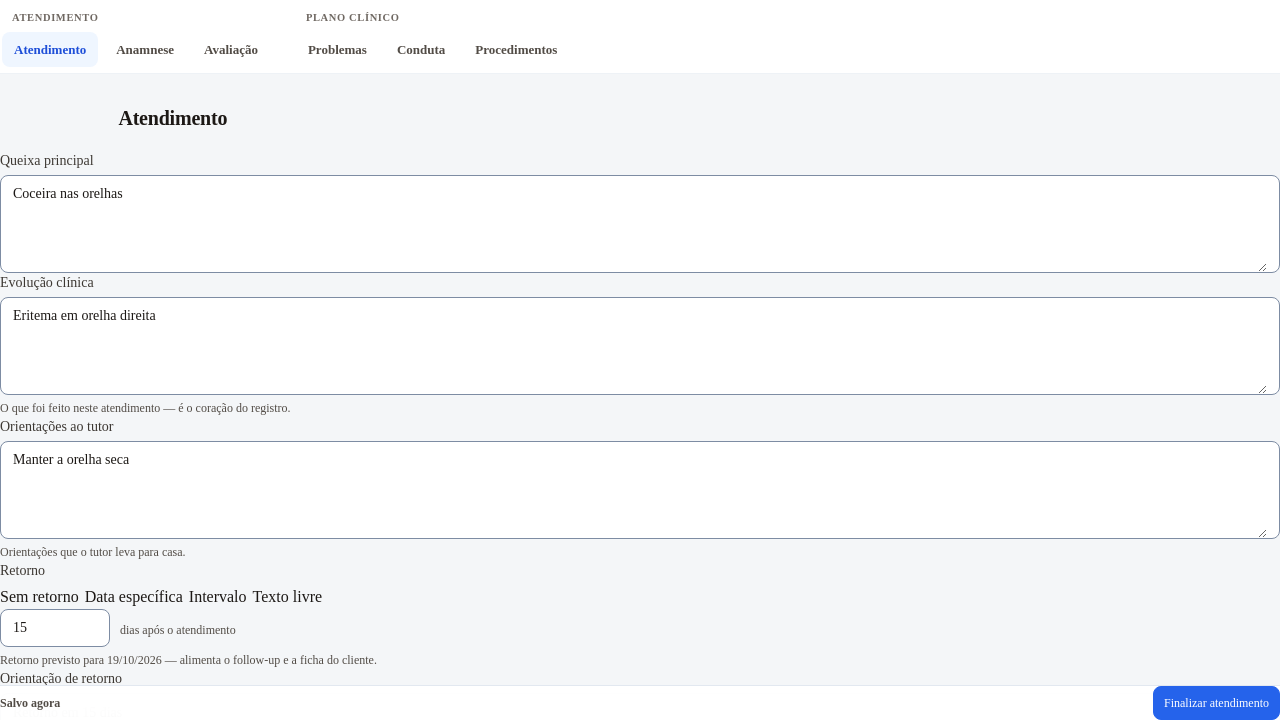
Scenario: F1B2 · navegação por vertical (o pacote B2 não vaza) › trocar para Problemas grava a Anamnese antes (flush entre seções B1 → B2)
# Digita na Anamnese.
Click the button "Anamnese": click(145, 50) x1=104 y1=32 x2=186 y2=67
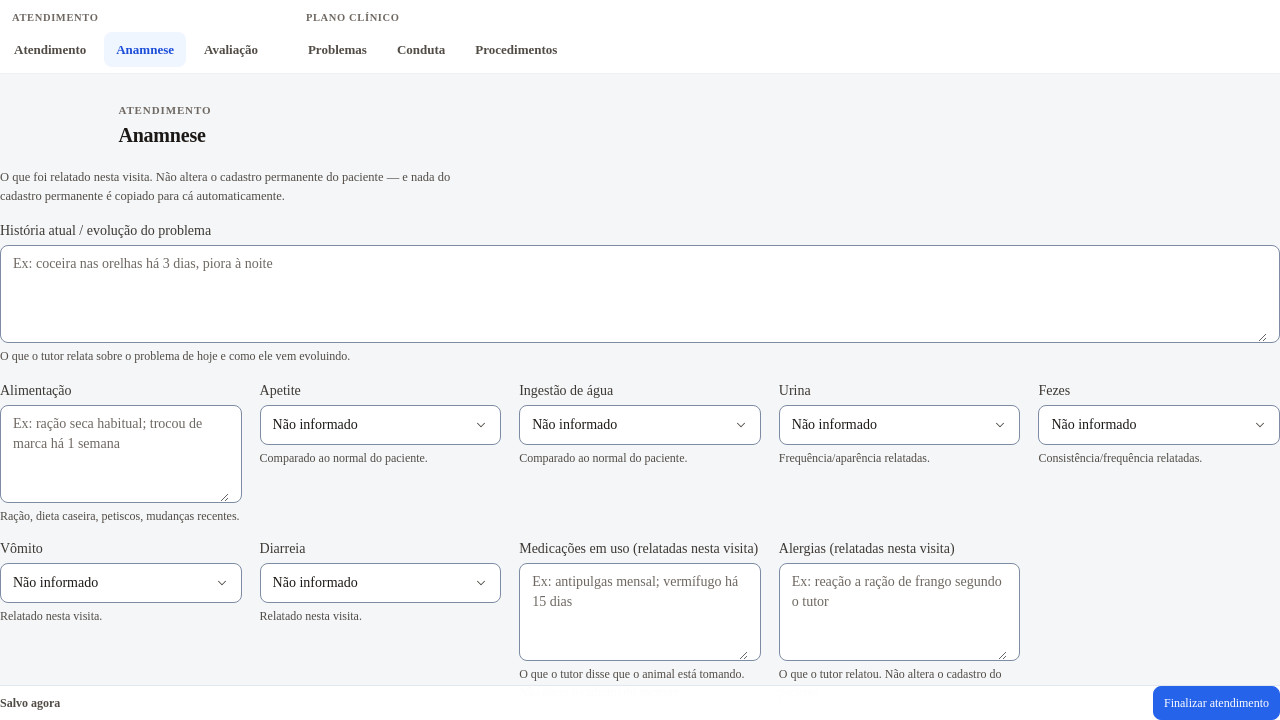
Result: the text box labelled "História atual" is shown
In the text box labelled "História atual": (640, 294) x1=13 y1=246 x2=1267 y2=342, type "Coceira há 3 dias."
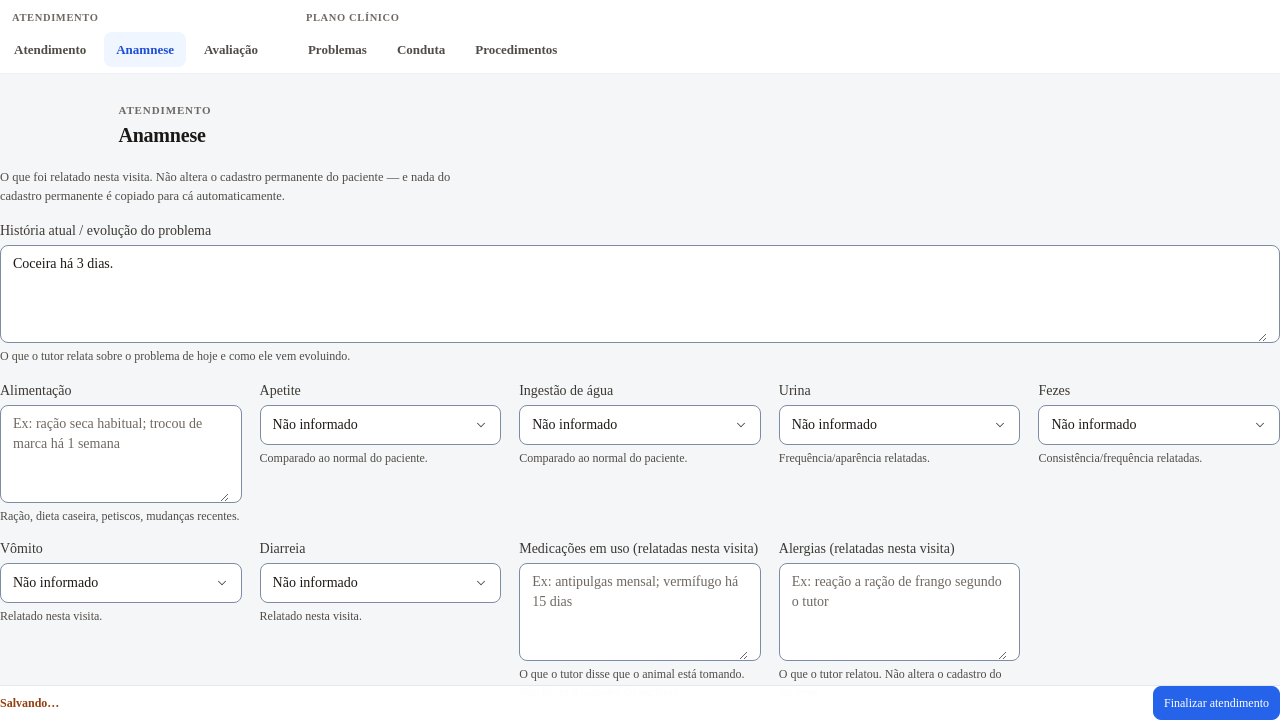
# Troca para Problemas: precisa gravar ANTES de navegar.
Click the button "Problemas": click(337, 50) x1=296 y1=32 x2=379 y2=67
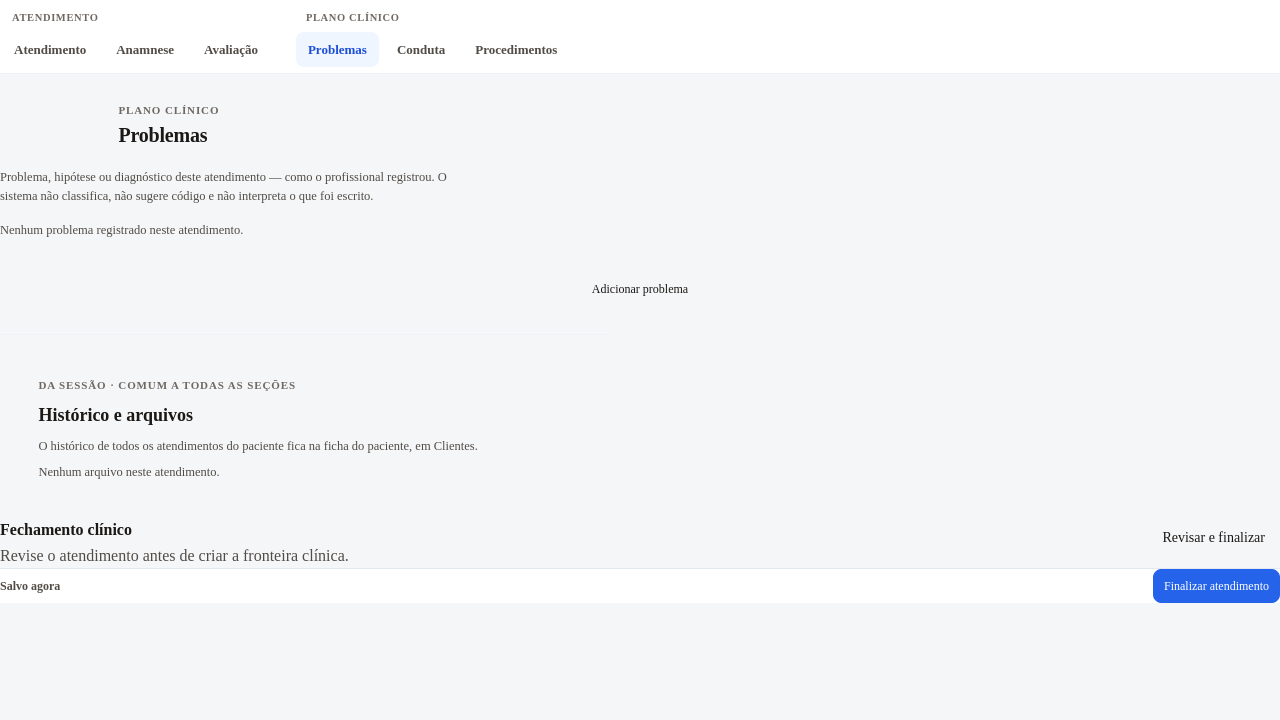
Expected: the element named "Problemas e diagnósticos" is shown, x1=0 y1=148 x2=1279 y2=306
Result: the button "Adicionar problema" is shown at x1=0 y1=272 x2=1279 y2=306
